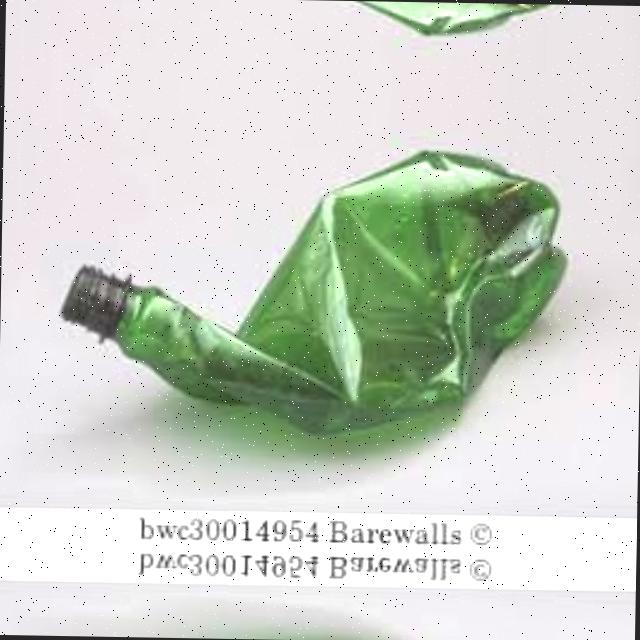Plastic: (56, 133, 583, 459), (62, 0, 585, 46)
